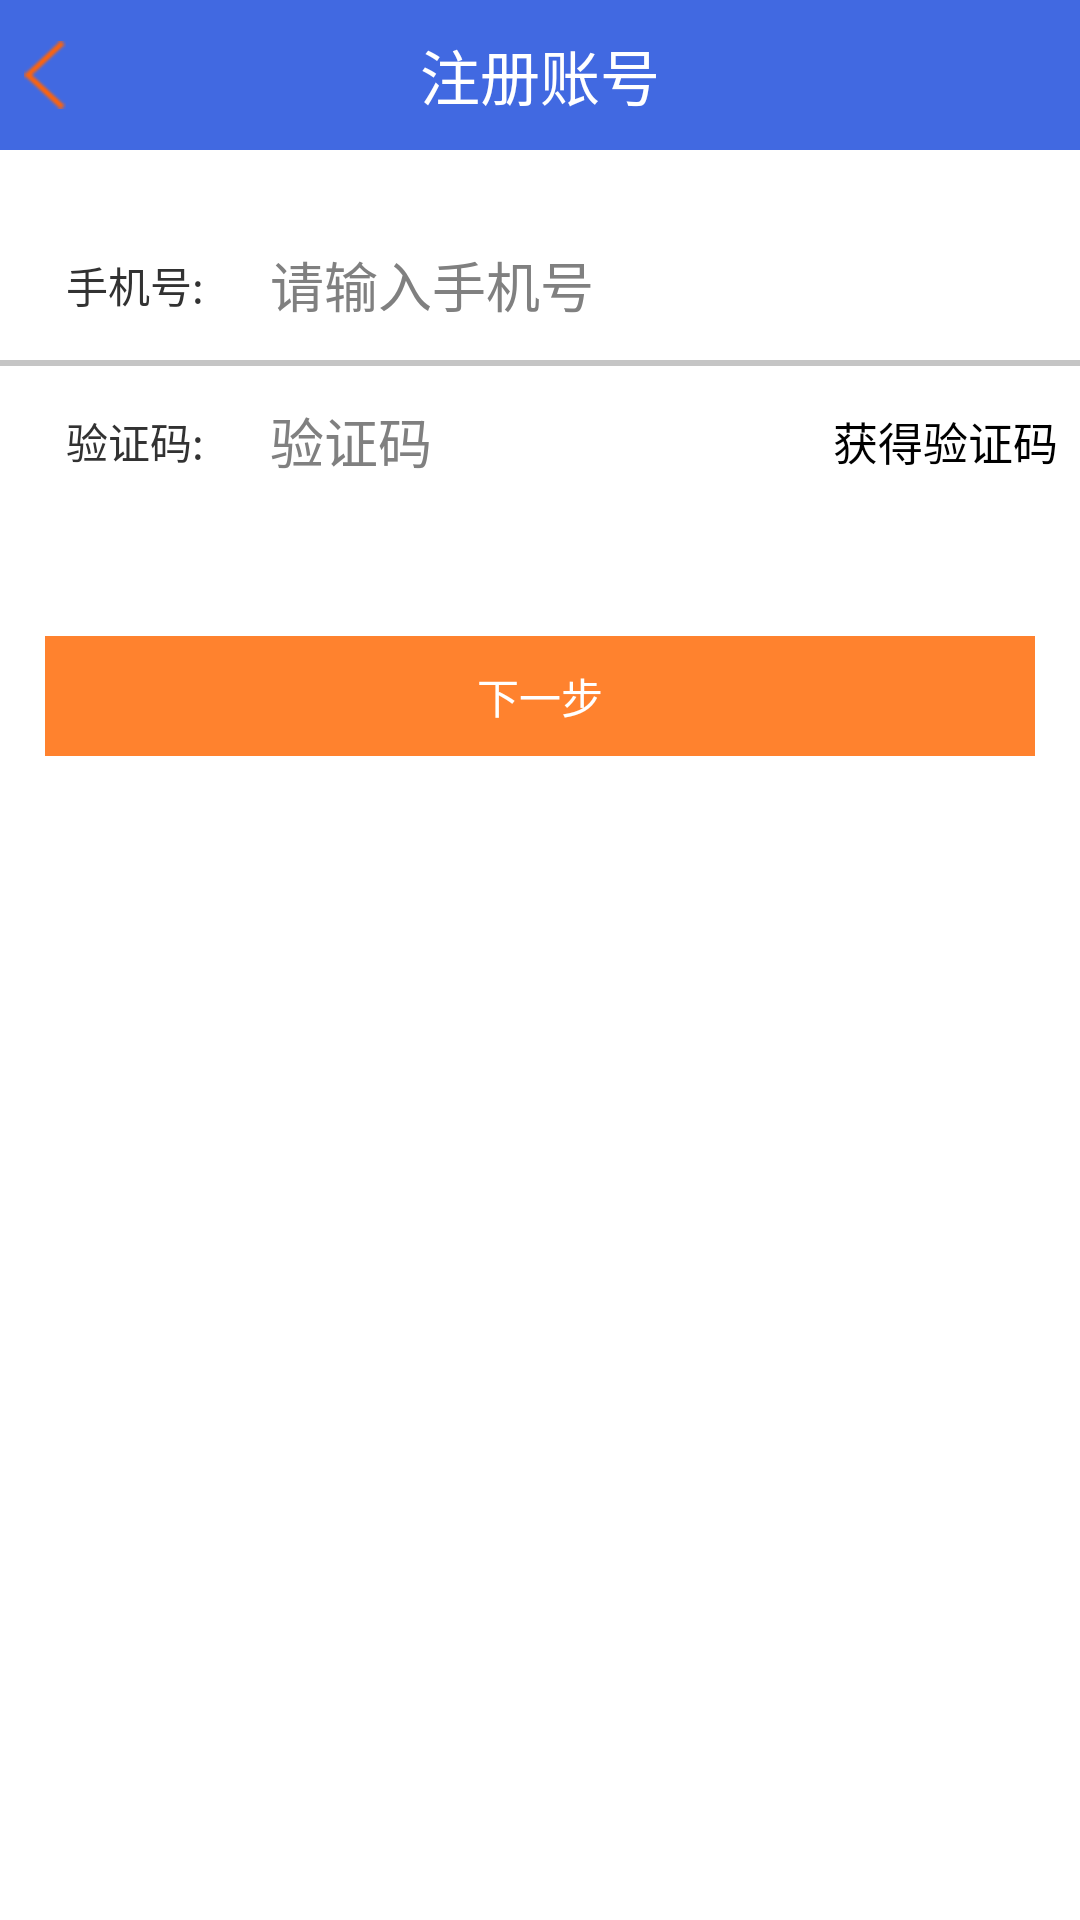

Point at icon controls on the screen. Image size 1080×1920, points as (x,y).
back: (45,75)
